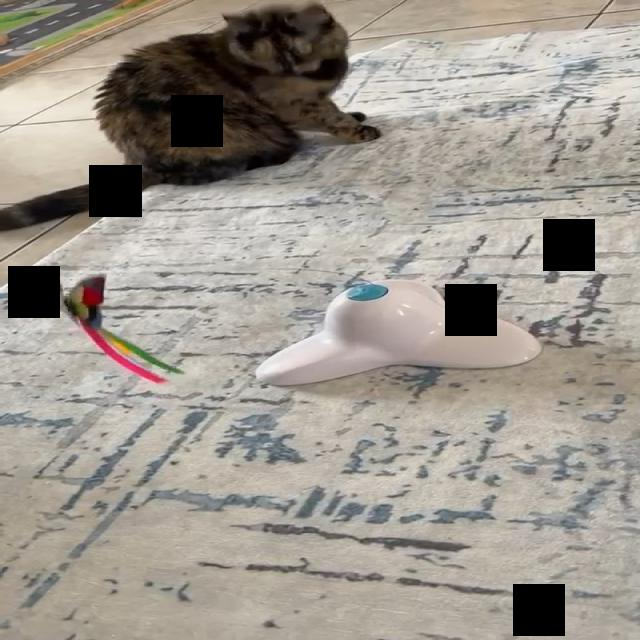authorized: (0, 0, 381, 231)
